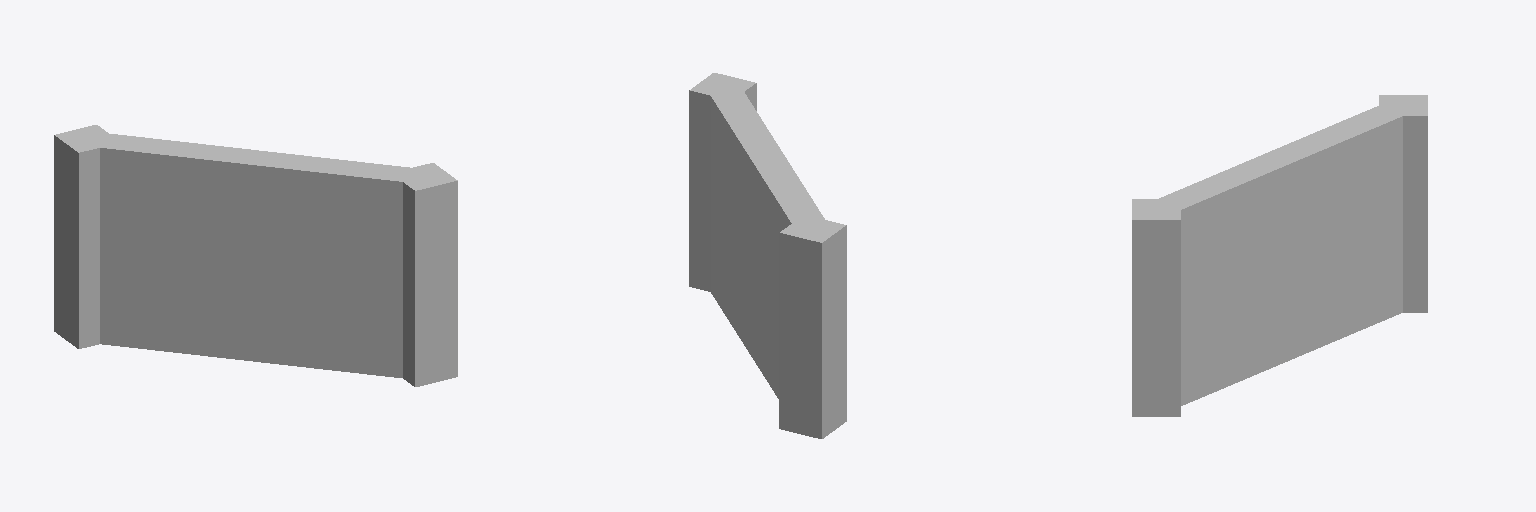
Rendered from Grey_Corner_01.obj.
3 views of the same model, side by side, from view 1: azimuth 30°, elevation 25°; view 2: azimuth 150°, elevation 25°; view 3: azimuth 270°, elevation 25° (orthographic).
Parts seen in each view (by area): view 1: Mesh1 Grey_Corner Model; view 2: Mesh1 Grey_Corner Model; view 3: Mesh1 Grey_Corner Model.
Part boxes in pixels (x1,y1,x2,y2): Mesh1 Grey_Corner Model: (54, 125, 457, 386); Mesh1 Grey_Corner Model: (689, 73, 846, 438); Mesh1 Grey_Corner Model: (1132, 95, 1427, 416).
Bounding box in the file's own units: 3 × 2.2 × 3.